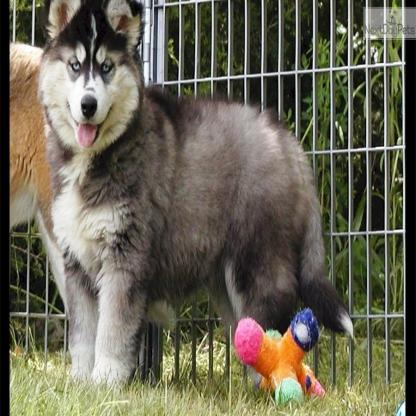husky: (36, 0, 355, 391)
